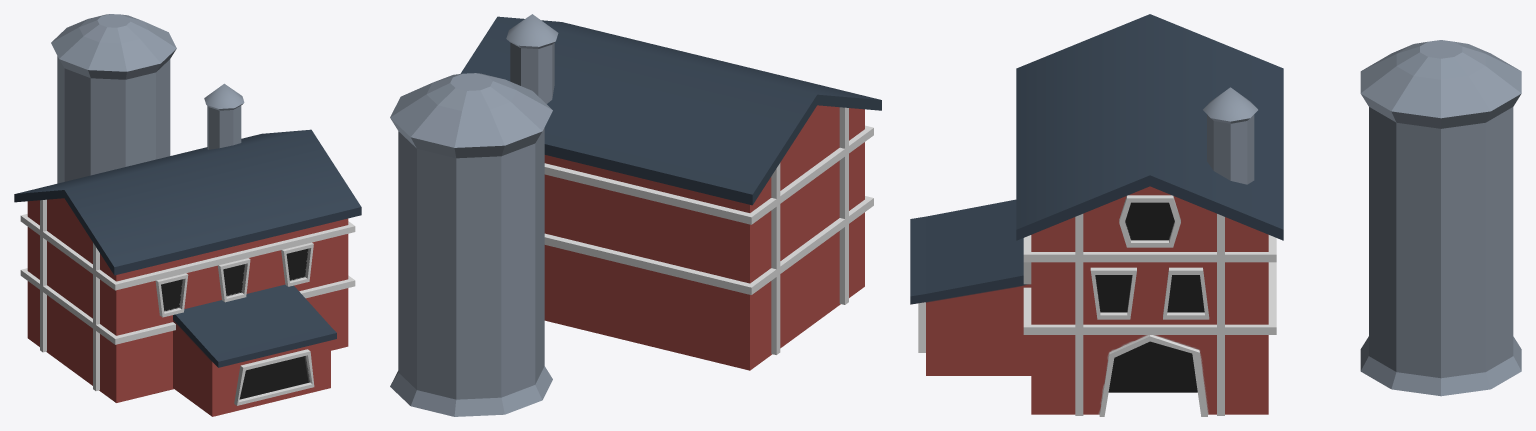
Rendered from Granero.fbx.
The picture shows the model from 3 angles, left to right: view 1: azimuth 30°, elevation 25°; view 2: azimuth 150°, elevation 25°; view 3: azimuth 270°, elevation 25°; orthographic projection. The views are drawn at different scales.
Visible parts, largest first — view 1: pCube39, pCube26, pCylinder4, pCube27, pCube28, pCube38, pCylinder3, pCube29, pCube31, pCube35, pCube36, pCube37; view 2: pCylinder4, pCube26, pCube39, pCube28, pCube29, pCube31, pCylinder3; view 3: pCylinder4, pCube39, pCube26, pCube27, pCylinder3, pCube29, pCube31, pCube28, pCube32, pCube34, pCube33.
Boxes of the visible parts, x1,y1,x2,y2 form: pCube39: [14, 129, 361, 275]; pCube26: [27, 198, 348, 402]; pCylinder4: [51, 14, 176, 183]; pCube27: [173, 284, 336, 416]; pCube28: [20, 214, 355, 290]; pCube38: [234, 349, 314, 405]; pCylinder3: [204, 83, 244, 149]; pCube29: [20, 268, 355, 344]; pCube31: [40, 199, 99, 390]; pCube35: [218, 258, 250, 302]; pCube36: [155, 273, 188, 317]; pCube37: [281, 242, 313, 286]; pCylinder4: [390, 73, 552, 416]; pCube26: [544, 105, 864, 370]; pCube39: [460, 16, 881, 205]; pCube28: [544, 125, 873, 224]; pCube29: [544, 196, 873, 294]; pCube31: [771, 107, 848, 354]; pCylinder3: [506, 14, 558, 103]; pCylinder4: [1360, 40, 1521, 396]; pCube39: [1016, 14, 1283, 240]; pCube26: [1031, 186, 1268, 416]; pCube27: [910, 199, 1031, 375]; pCylinder3: [1203, 87, 1257, 184]; pCube29: [1023, 262, 1276, 334]; pCube31: [1075, 214, 1224, 415]; pCube28: [1023, 235, 1276, 262]; pCube32: [1119, 195, 1180, 247]; pCube34: [1163, 267, 1209, 319]; pCube33: [1090, 267, 1136, 319].
Bounding box in the file's own units: 16.12 × 14.55 × 25.82.
